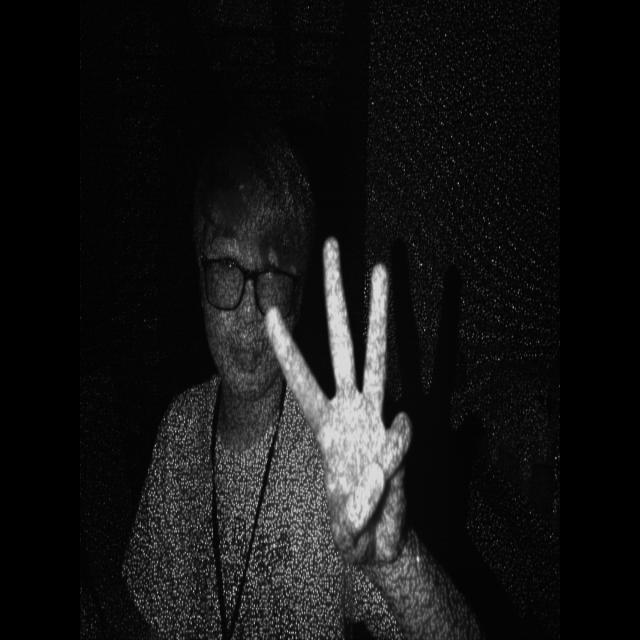W: (267, 234, 418, 585)
